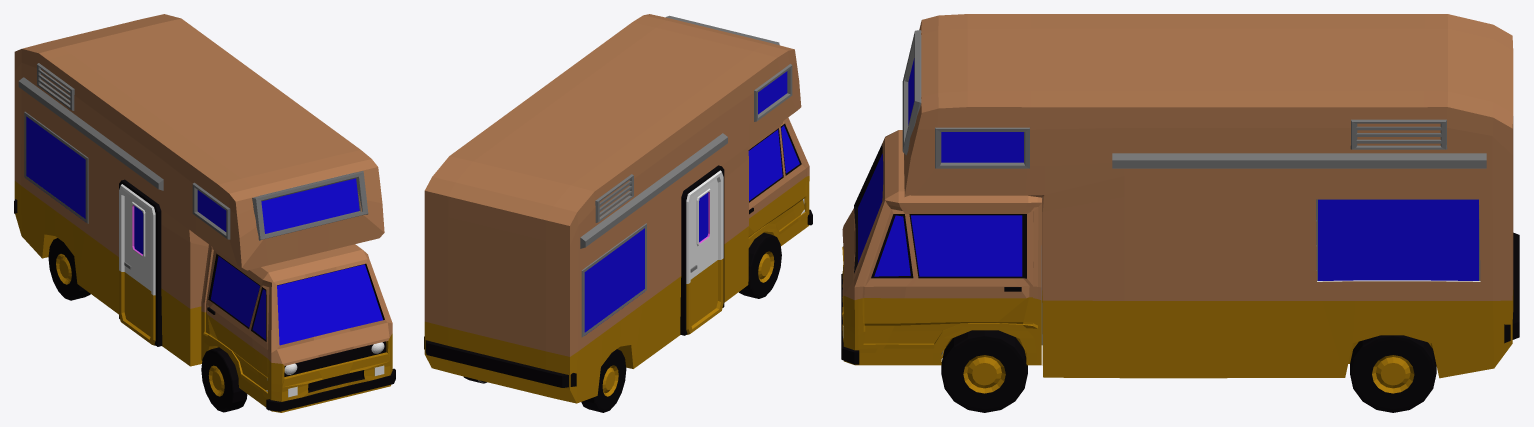
The model's file is CamperVan2.fbx.
3 renders of one model, left to right at view 1: azimuth 30°, elevation 25°; view 2: azimuth 150°, elevation 25°; view 3: azimuth 270°, elevation 25°, orthographic. The views are drawn at different scales.
Parts seen in each view (by area): view 1: Camper_Van.002, Camper_Van.001; view 2: Camper_Van.002, Camper_Van.001; view 3: Camper_Van.002.
Part boxes in pixels (left/top/right/bottom): Camper_Van.002: left=14, top=14, right=395, bottom=412; Camper_Van.001: left=119, top=184, right=155, bottom=345; Camper_Van.002: left=424, top=14, right=812, bottom=412; Camper_Van.001: left=686, top=170, right=723, bottom=334; Camper_Van.002: left=841, top=14, right=1519, bottom=412.
Bounding box in the file's own units: 257 × 369 × 731.
